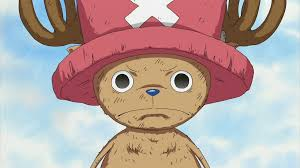chopper: (17, 1, 288, 168)
